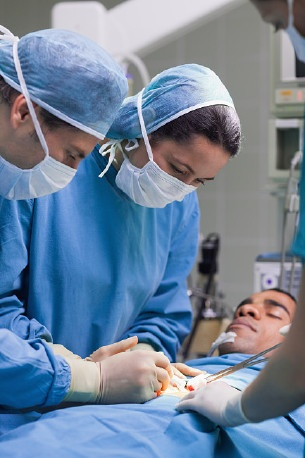Mask: (1, 116, 91, 206)
